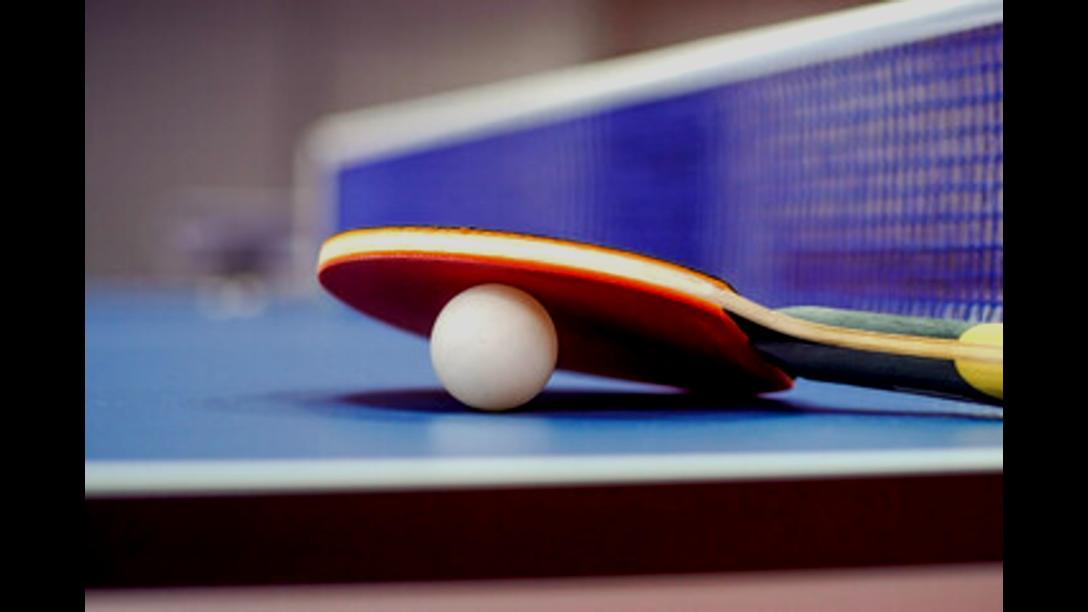Table-Tennis-Ball: (432, 282, 558, 408)
